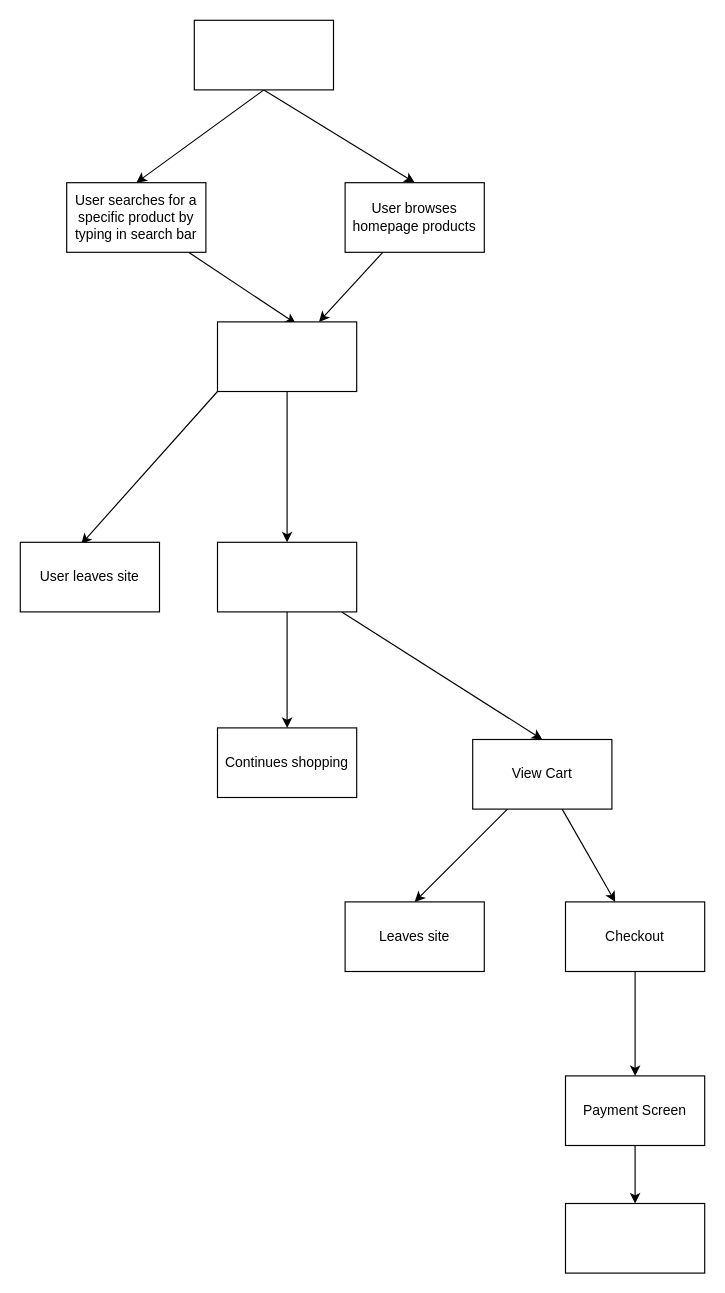
The diagram is 725 pixels wide and 1293 high, and some of its shapes have lost their labels. Here are the shapes that lost their labels. From the top down, the centre of each, then its label:
At [263,54]: "User Enters Site".
At [286,356]: "User views specific product".
At [286,576]: "Adds item to cart".
At [634,1237]: "Order confirmation".
